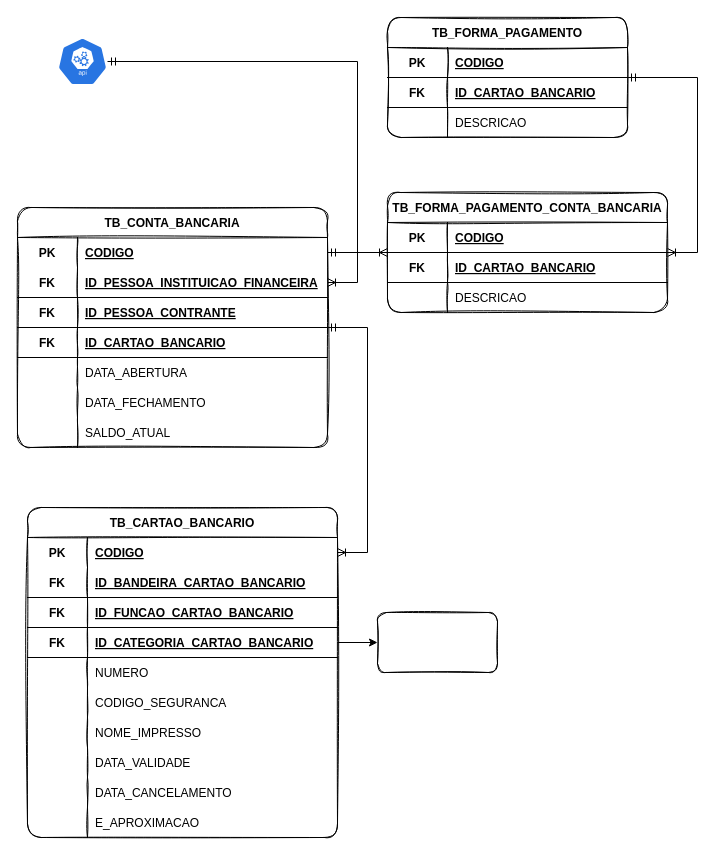
This 724x855 diagram has some shape labels left out. The centre of each missing label's shape, as x and y in pixels:
GERPESSAPI: point 82,61
GOLD, PLATINUM, BASIC: point 437,642
